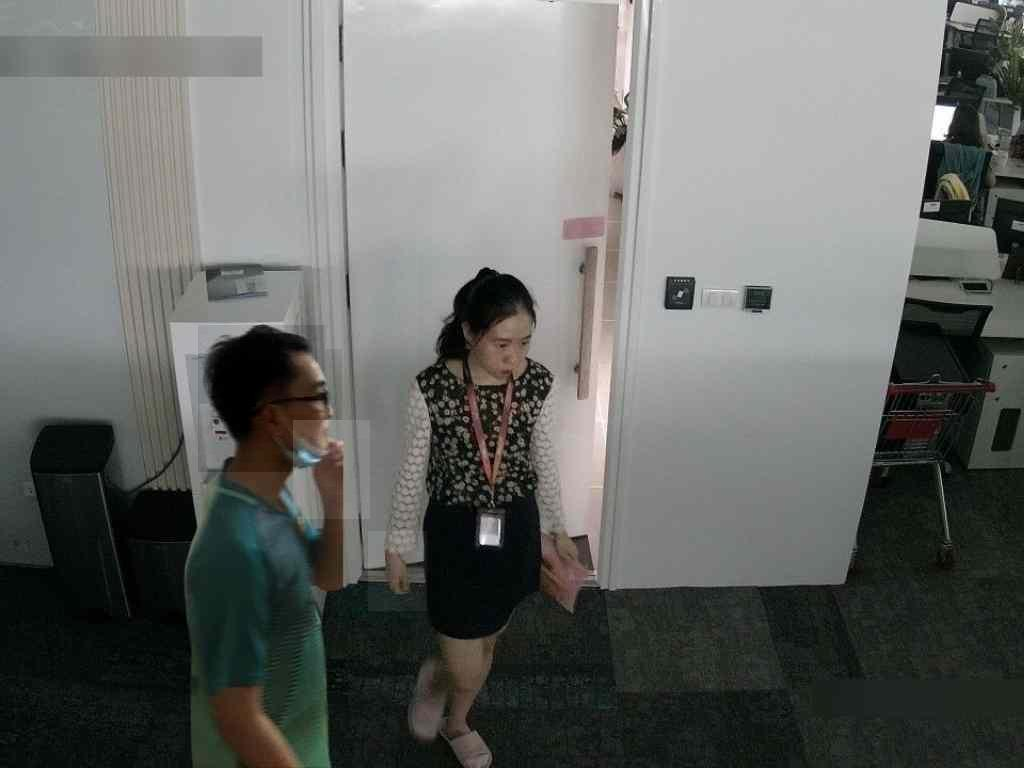no_apron: (294, 421, 370, 520), (368, 531, 427, 611)
no_gloves: (198, 326, 326, 473), (418, 256, 560, 376)
no_hairnet: (261, 349, 342, 471), (464, 295, 545, 384)
